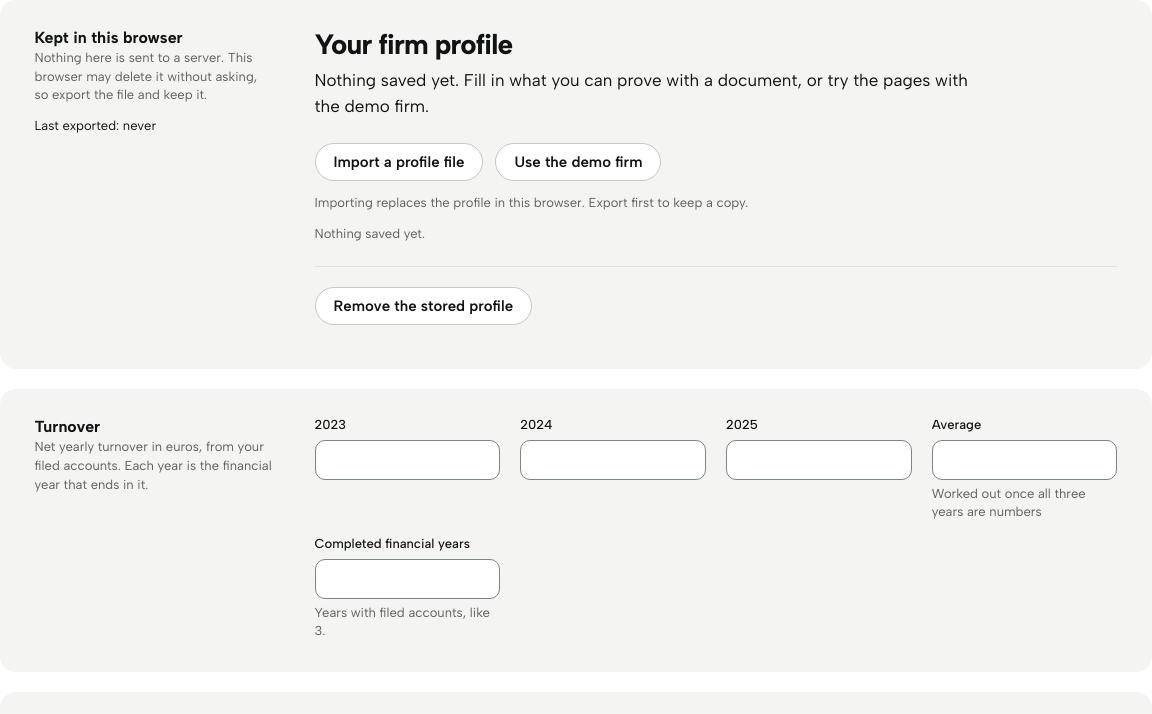
Test: ProfileForm, values and errors › refuses 1.240, names the problem and keeps the saved value
This screenshot has width=1152, height=714.
In the field labelled "2025": (819, 460) [726,440,912,480], type "1240000"
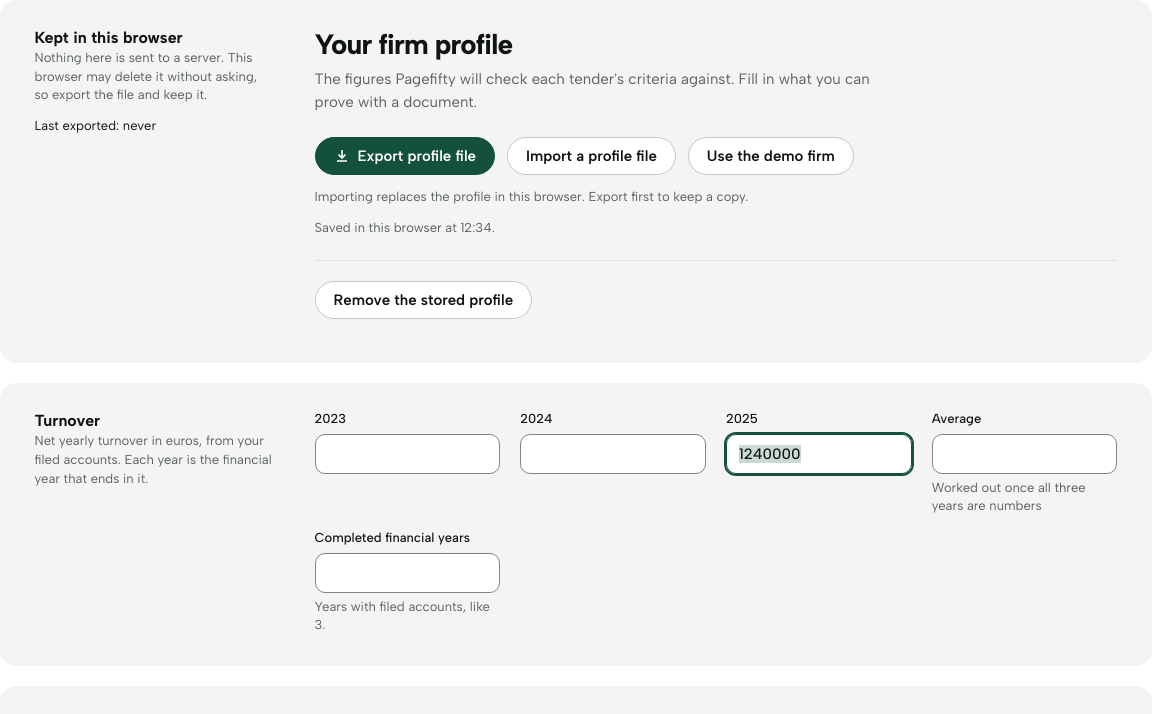
Type keys "1.240"
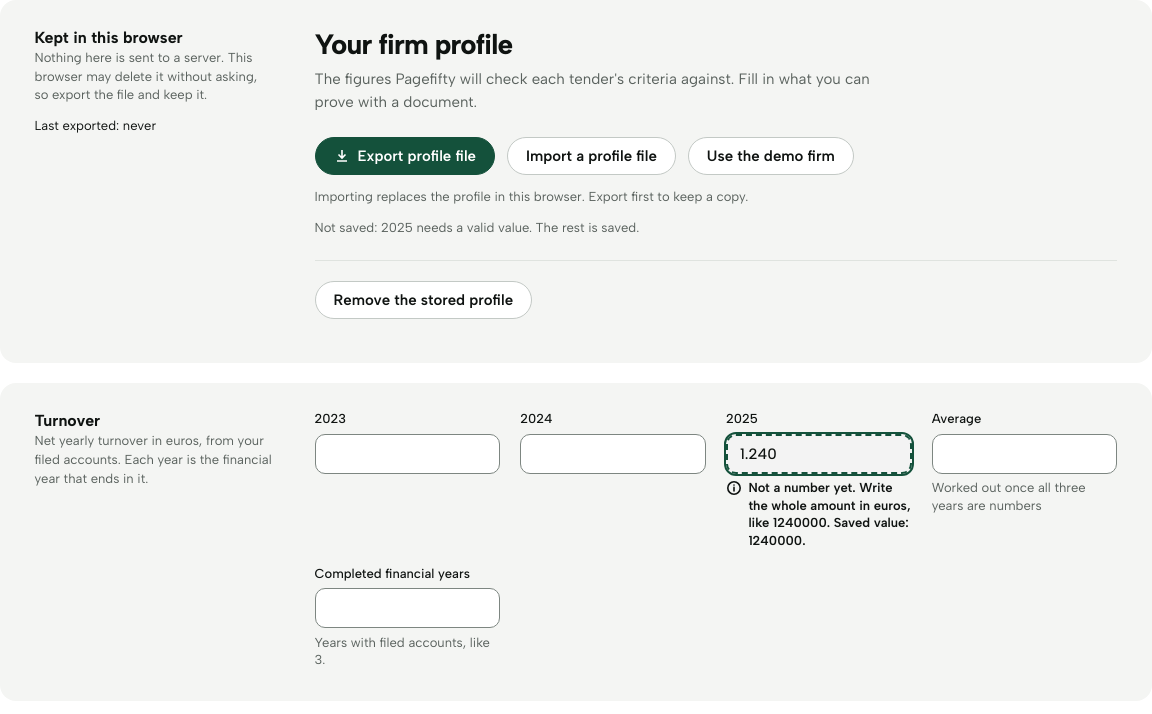
expect the field labelled "2025" holds "1.240": met, box [726,434,912,474]
expect the message reads "Not saved: 2025 needs a valid value. The rest is saved.": met, box [314,220,639,235]
